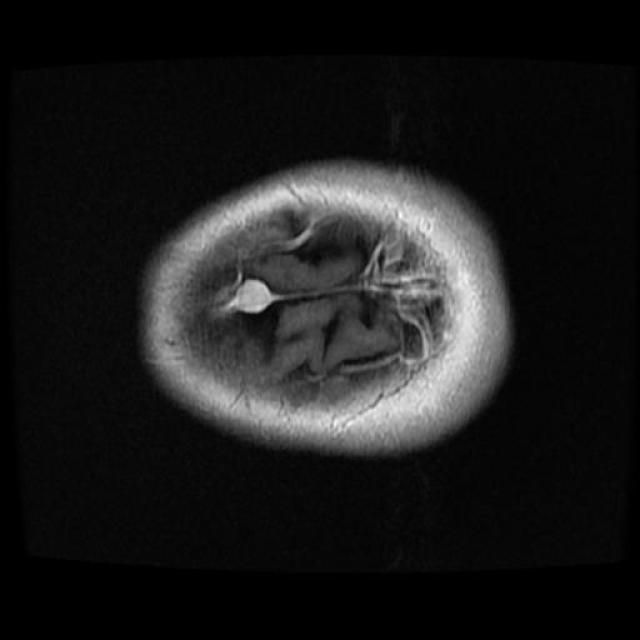Meningioma: (224, 278, 281, 313)
